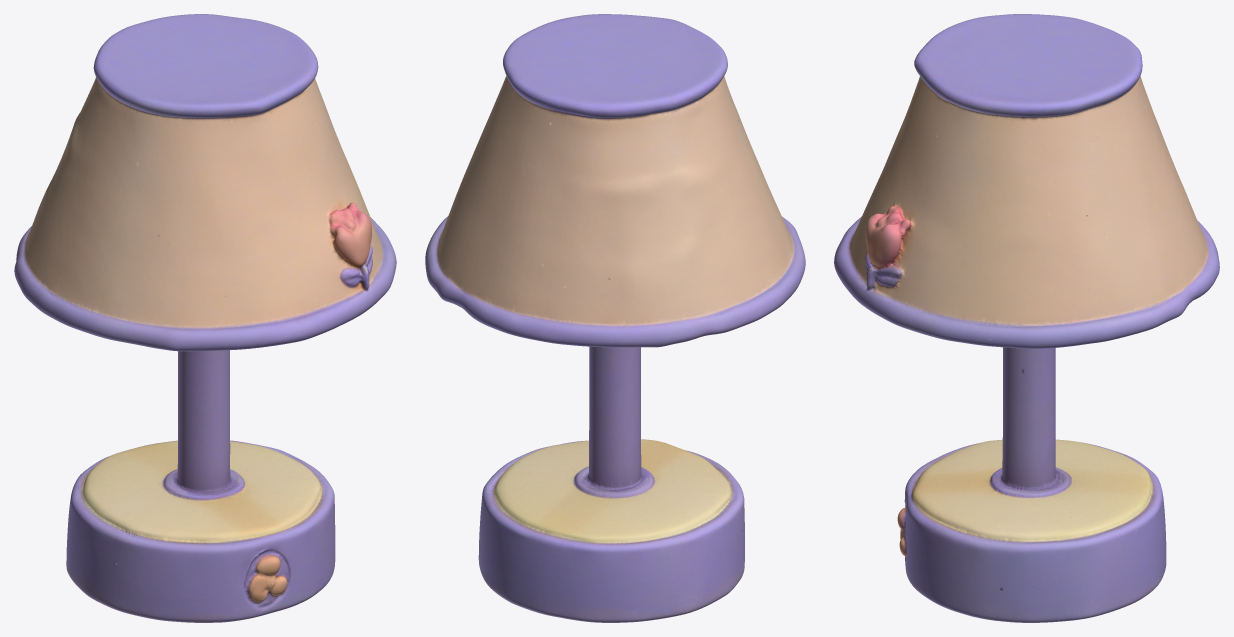
Rendered from tea-table-lamp.glb.
The picture shows the model from 3 angles, left to right: view 1: azimuth 30°, elevation 25°; view 2: azimuth 150°, elevation 25°; view 3: azimuth 270°, elevation 25°; orthographic projection.
Size of the model in its own units: 1.36 by 2 by 1.37.
Materials: 1 (1 with a texture image).
